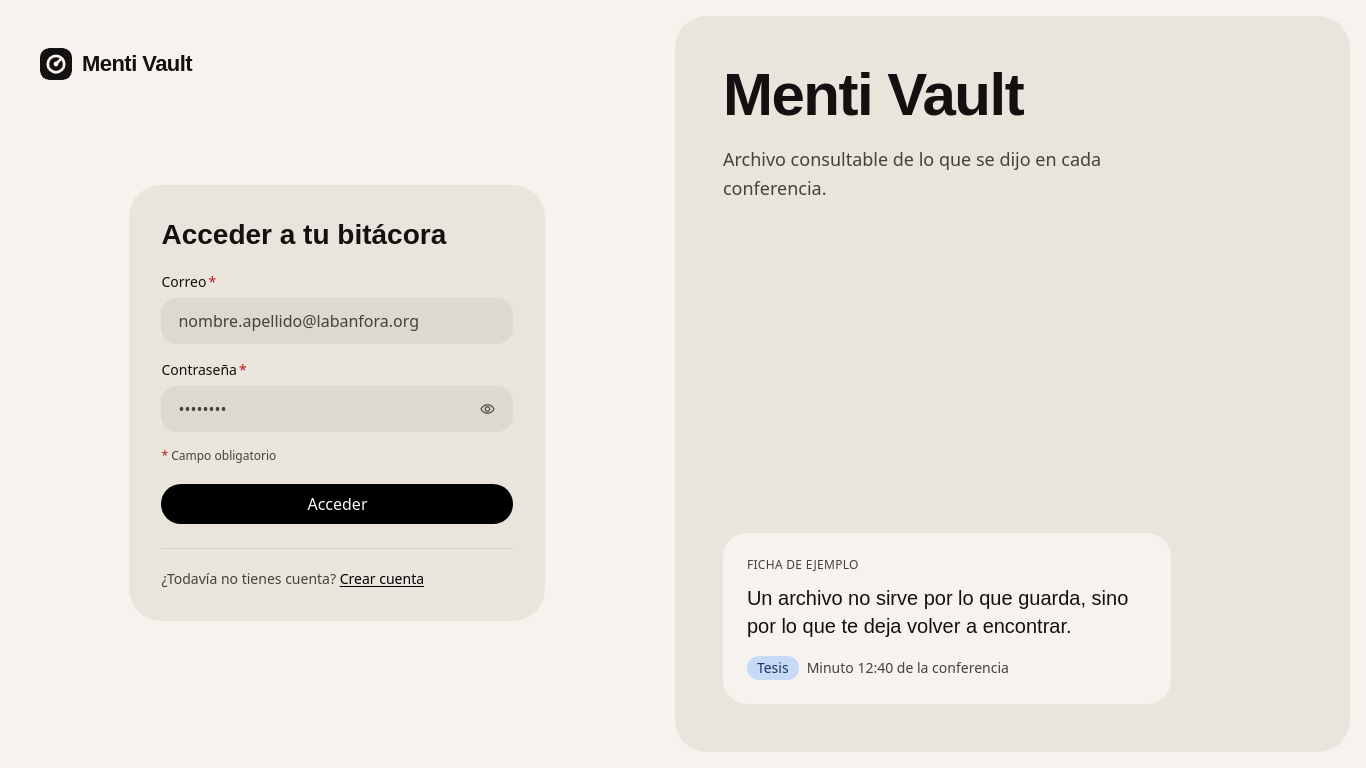
PantallaAcceso › al enviar el formulario vacío marca cada campo que falta, sin un mensaje genérico
Click the button "Acceder" at (338, 504), box [162,484,514,524]
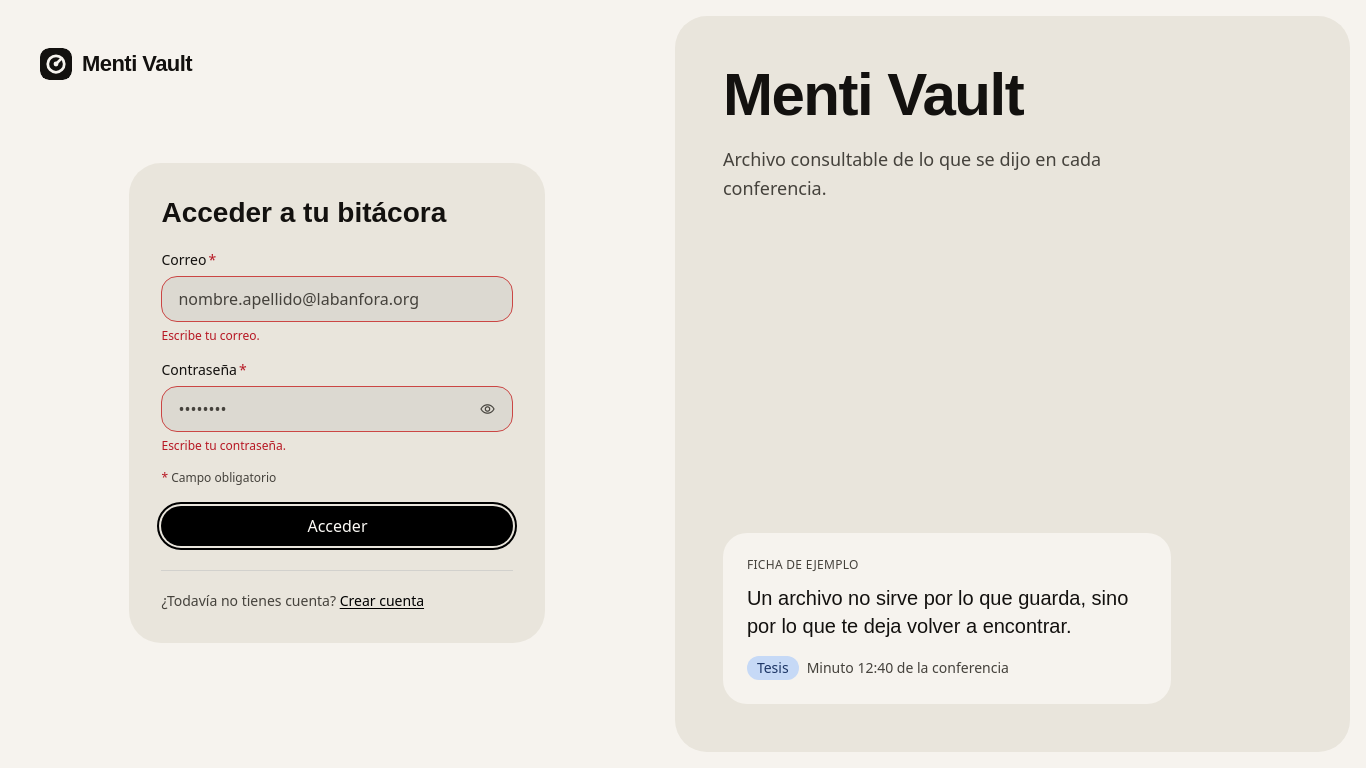
Expected: the text "Escribe tu correo." is shown, [162,327,260,344]
Expected: the text "Escribe tu contraseña." is shown, [162,437,286,454]
